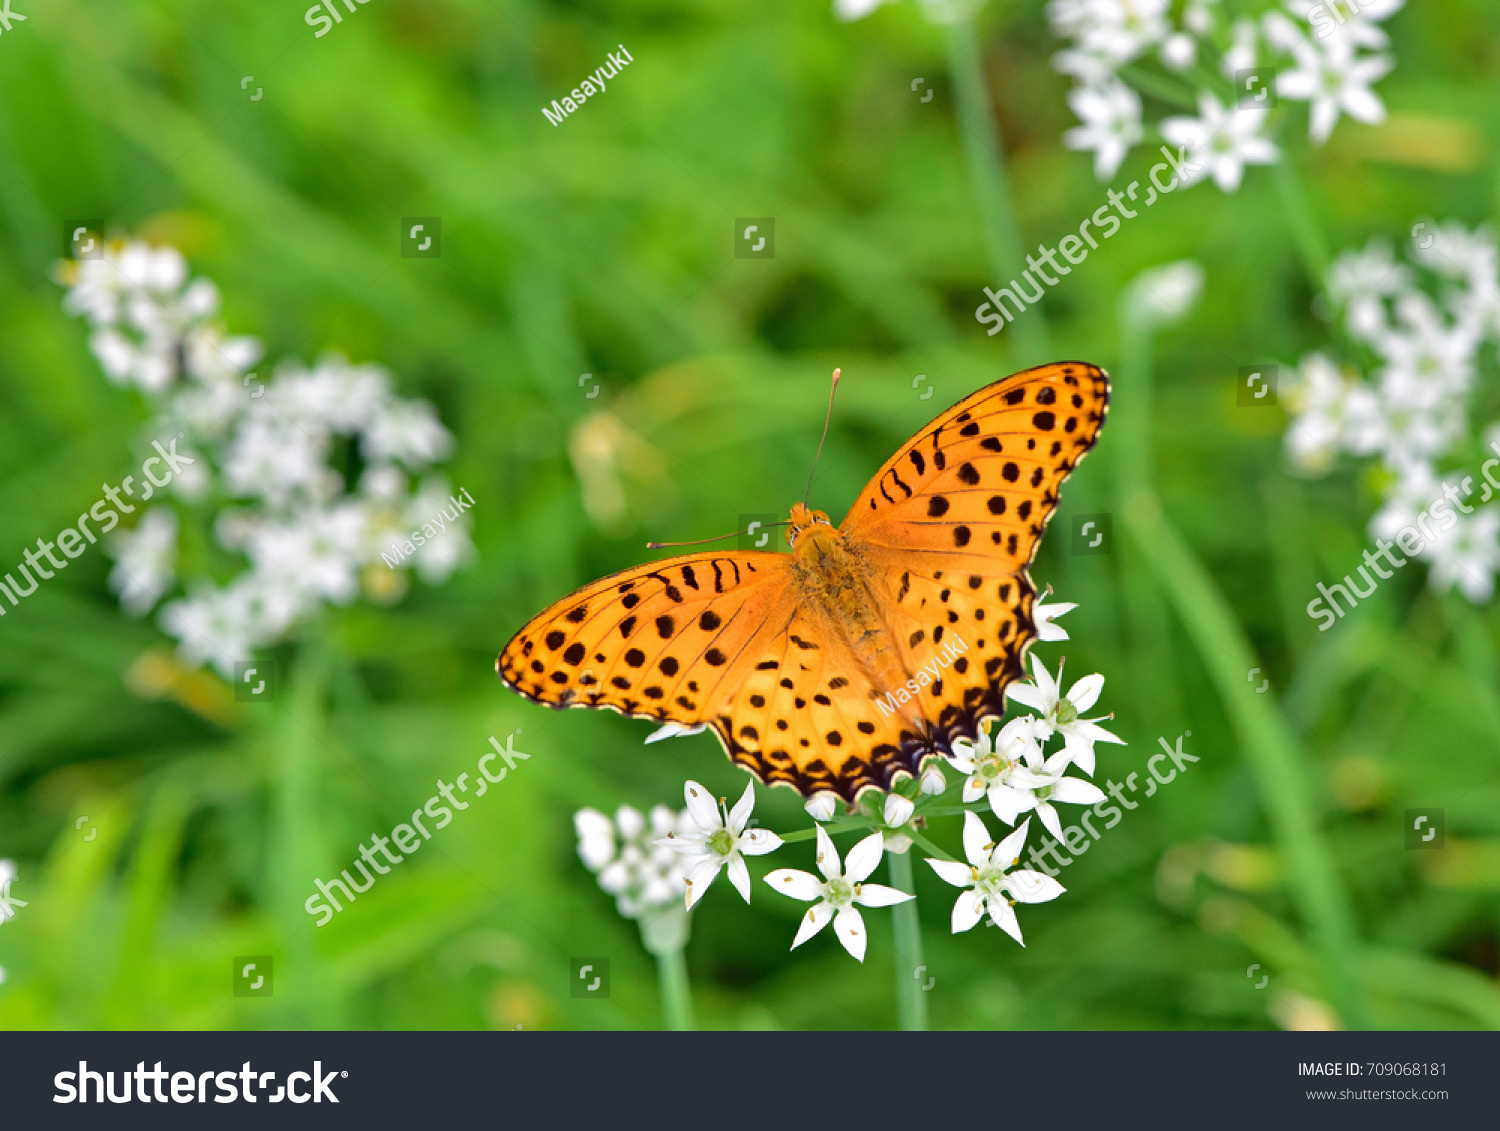Argyreus hyperbius: (490, 356, 1122, 815)
butterfly: (489, 355, 1120, 813)
